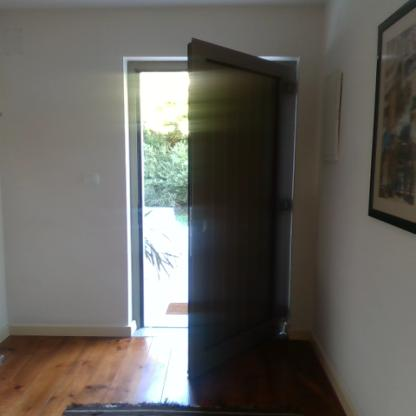semi: (106, 36, 314, 374)
